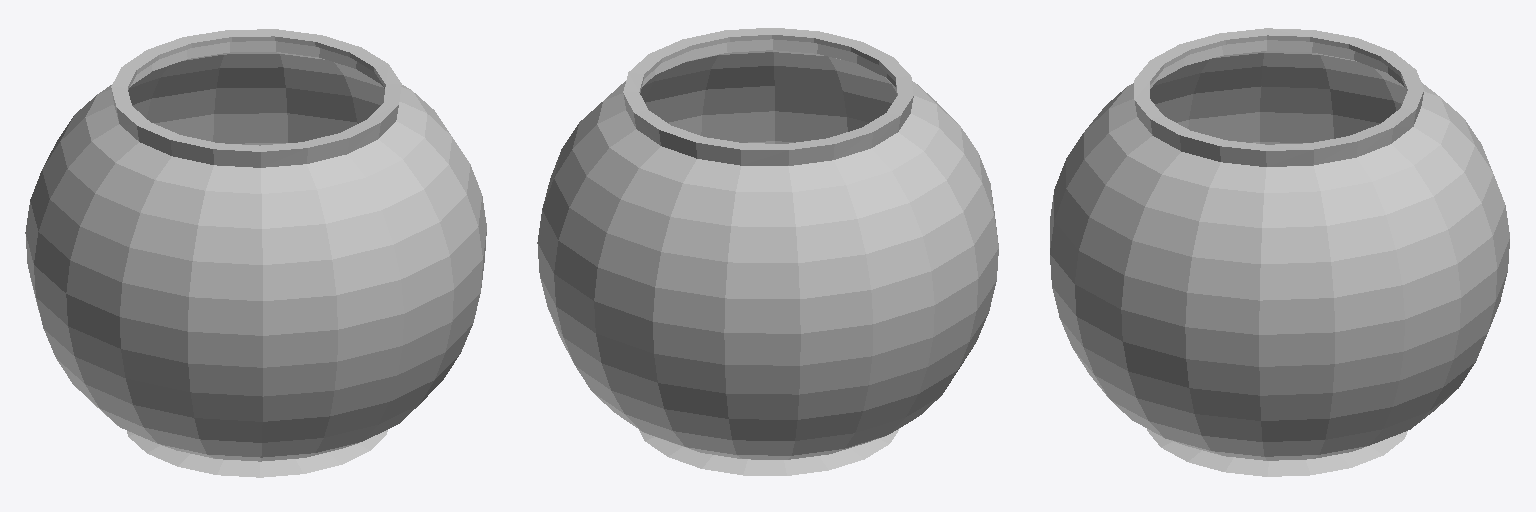
Rendered from NFelsch_FishInBowlV2.obj.
3 views of the same model, side by side, from view 1: azimuth 30°, elevation 25°; view 2: azimuth 150°, elevation 25°; view 3: azimuth 270°, elevation 25° (orthographic).
Parts seen in each view (by area): view 1: Bowl; view 2: Bowl; view 3: Bowl.
Part boxes in pixels (left/top/right/bottom): Bowl: left=25, top=29, right=486, bottom=477; Bowl: left=537, top=28, right=998, bottom=475; Bowl: left=1050, top=28, right=1509, bottom=476.
Bounding box in the file's own units: 10.93 × 8.68 × 10.89.